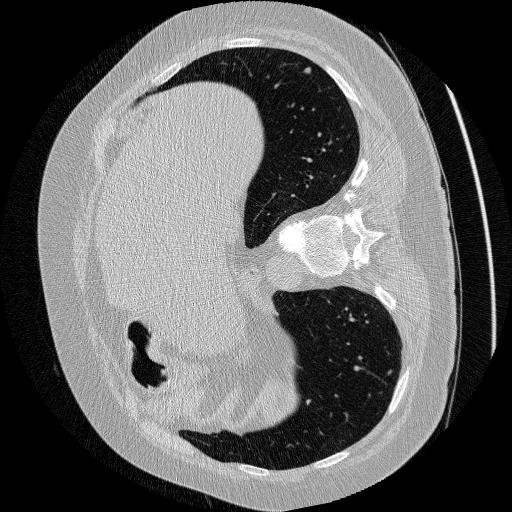nodule: (300, 63, 313, 76)
